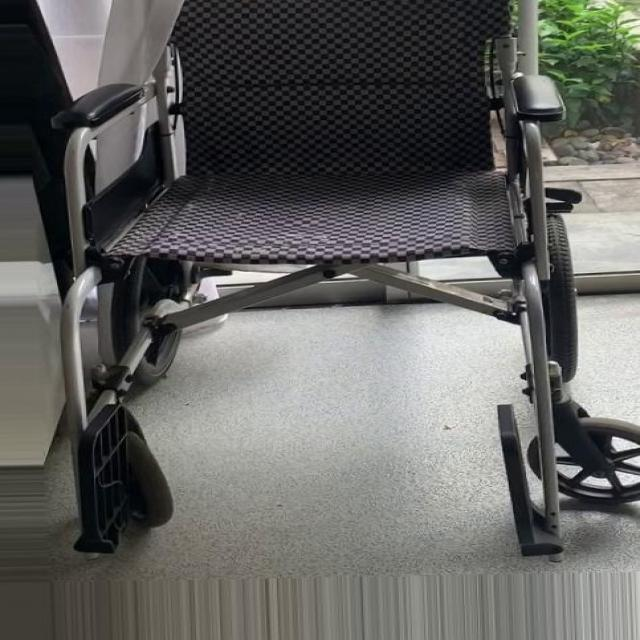wheelchair: (10, 1, 640, 576)
